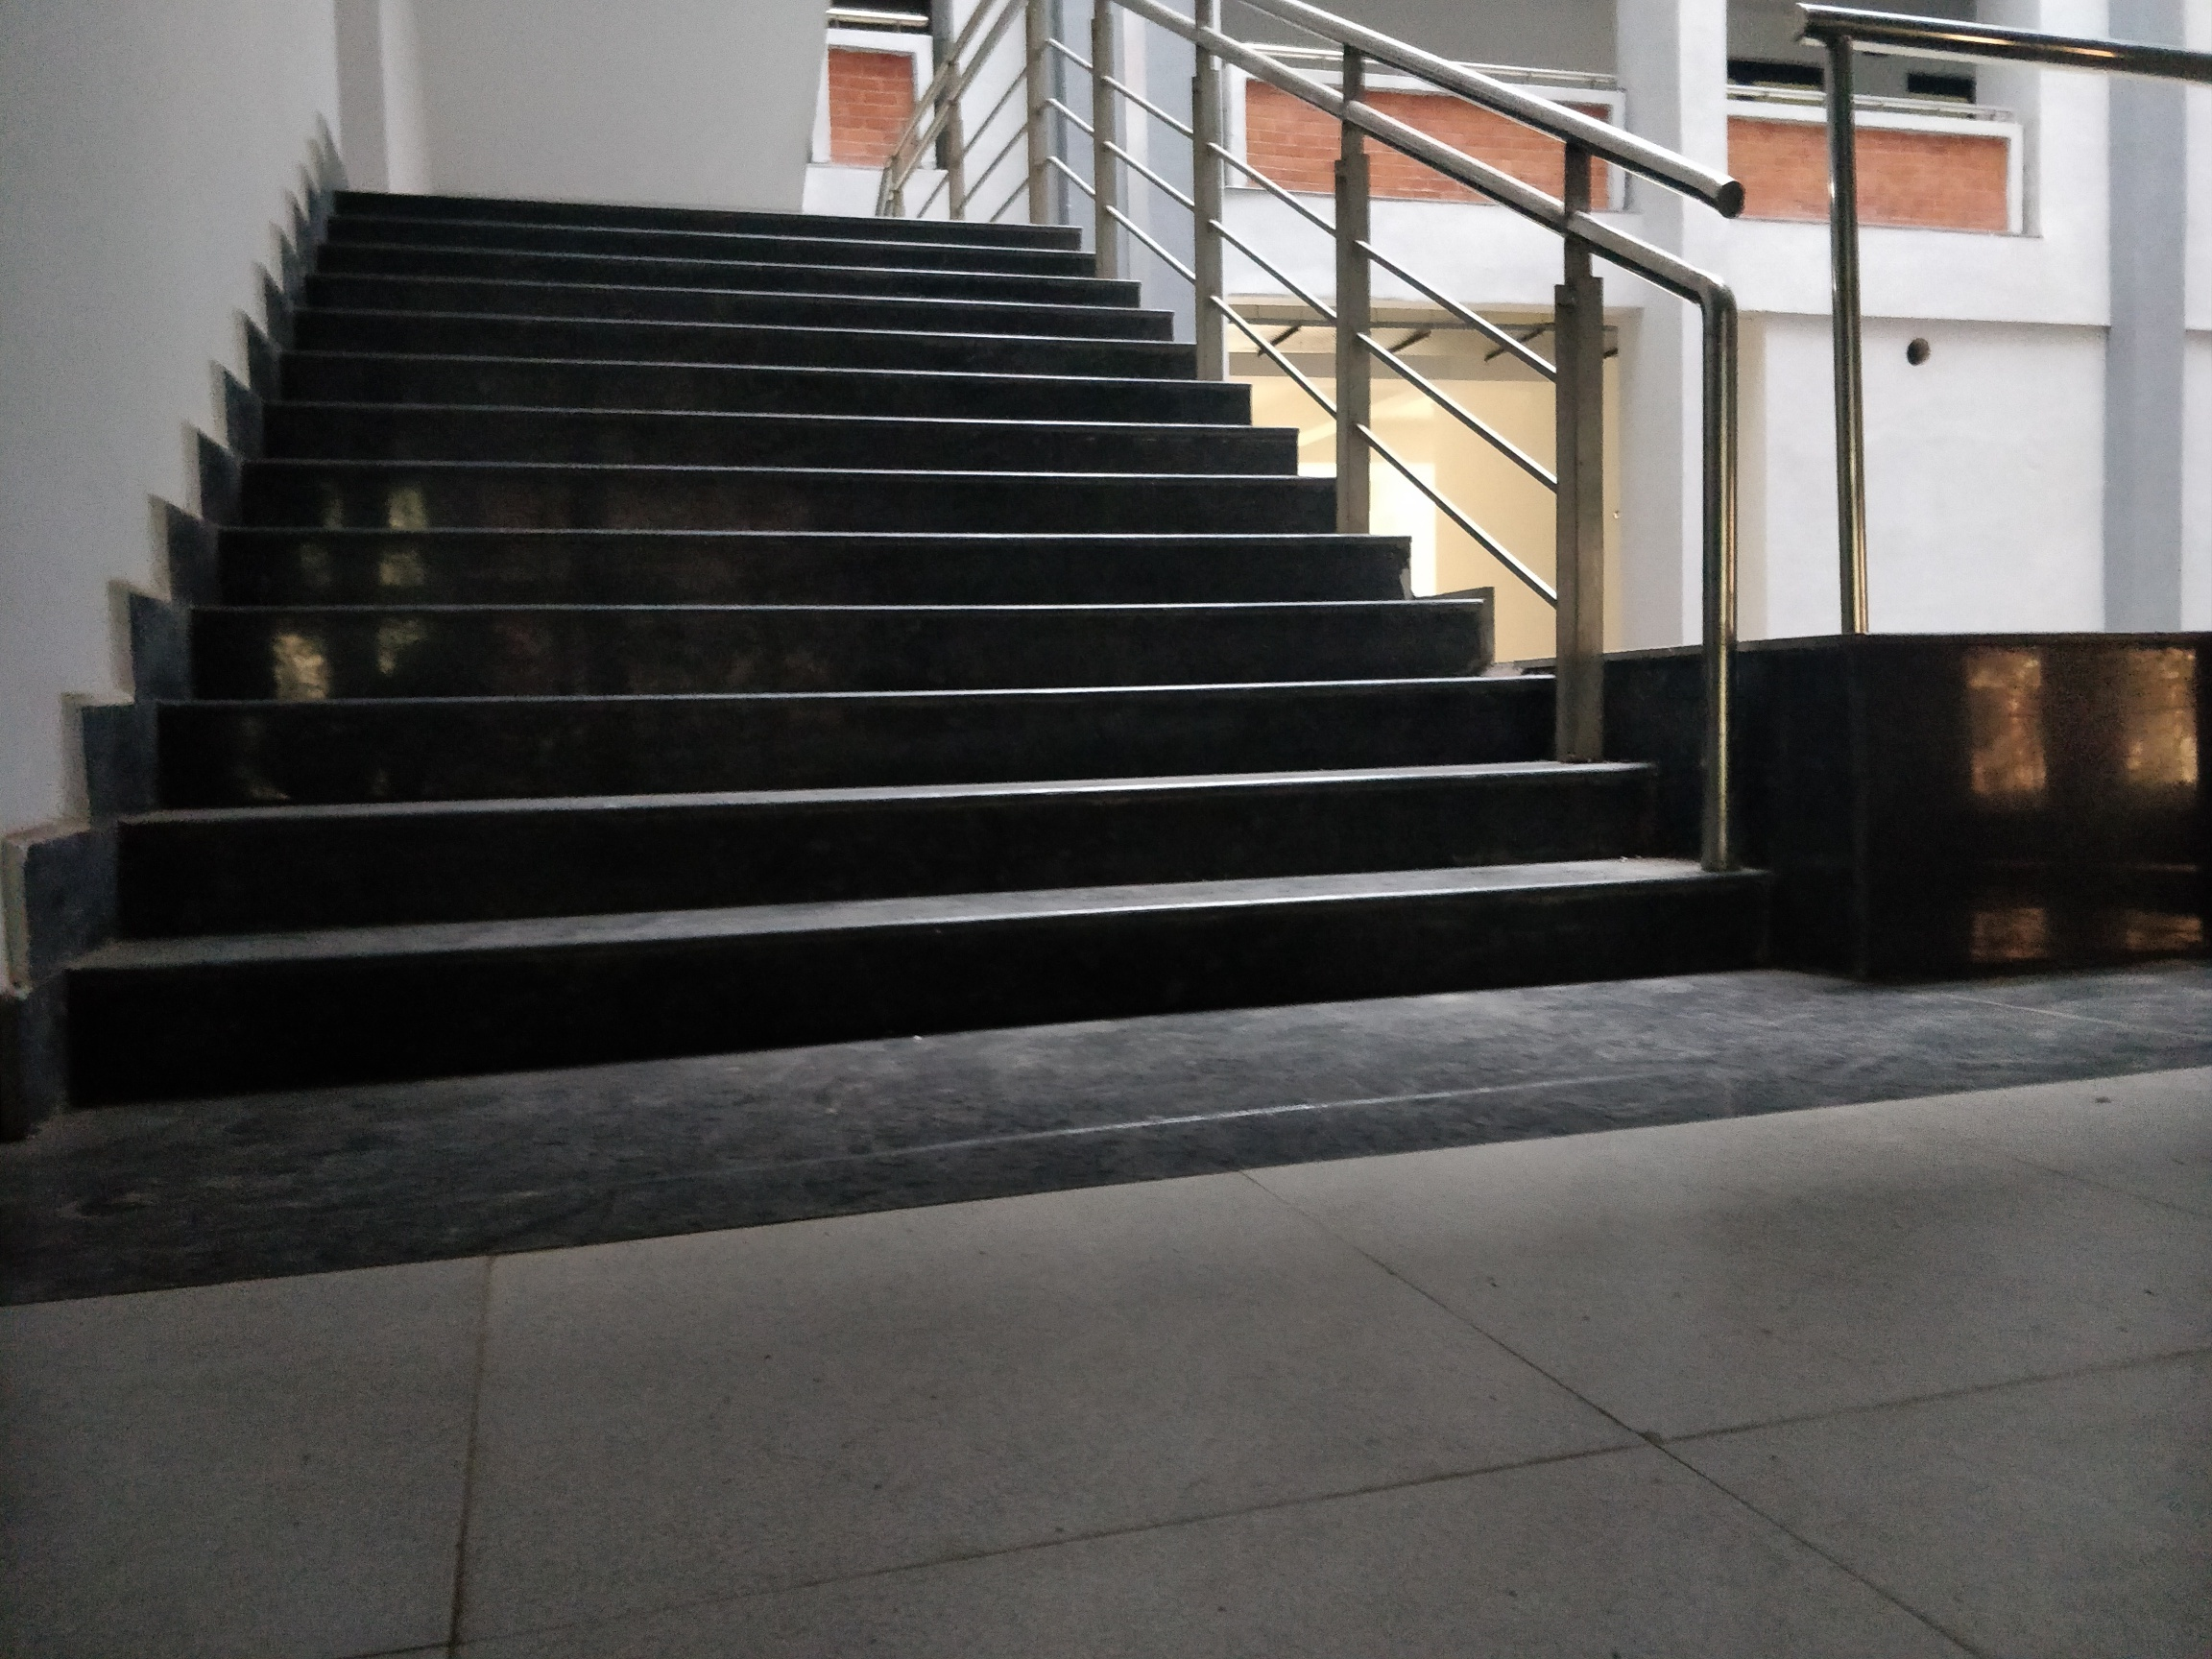stairs_up: (207, 178, 1433, 1039)
